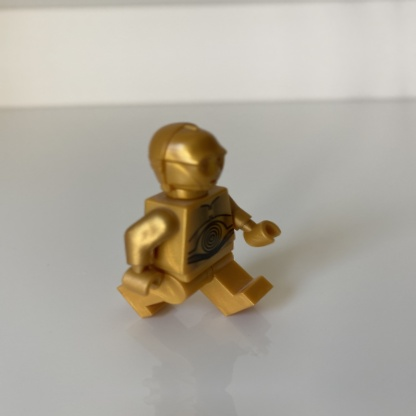c3po: (117, 122, 282, 319)
